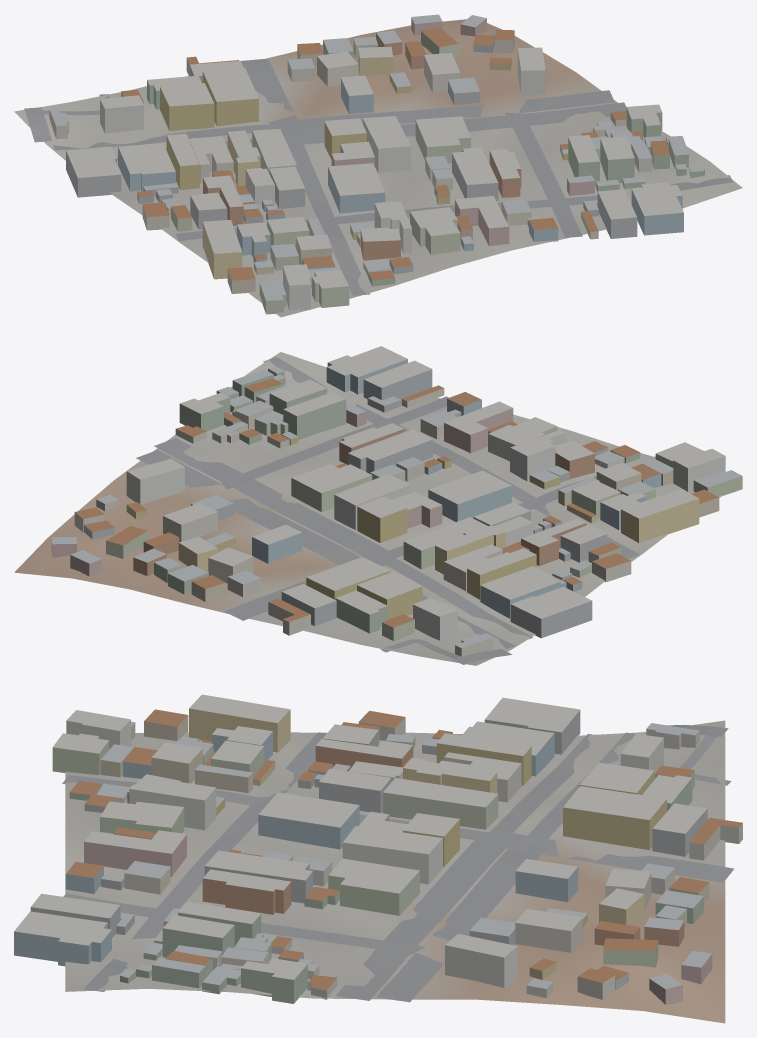
3 renders of one model, top to bottom at view 1: azimuth 30°, elevation 25°; view 2: azimuth 150°, elevation 25°; view 3: azimuth 270°, elevation 25°, orthographic. The views are drawn at different scales.
Parts seen in each view (by area): view 1: Lo; view 2: Lo; view 3: Lo.
Part boxes in pixels (x1,y1,x2,y2): Lo: [14, 14, 742, 317]; Lo: [14, 346, 742, 665]; Lo: [14, 694, 742, 1023].
Size of the model in its own units: 275 by 22.99 by 283.
